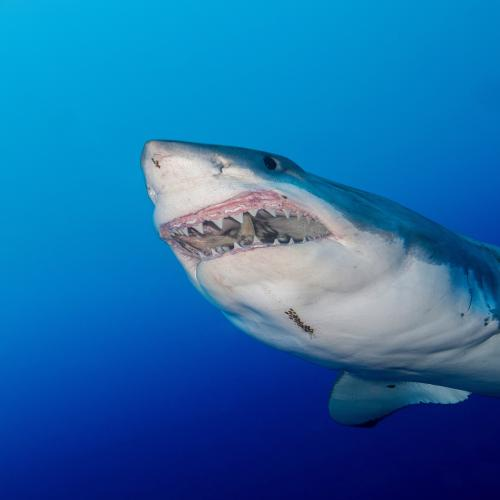shark-endangered: (132, 132, 500, 397)
